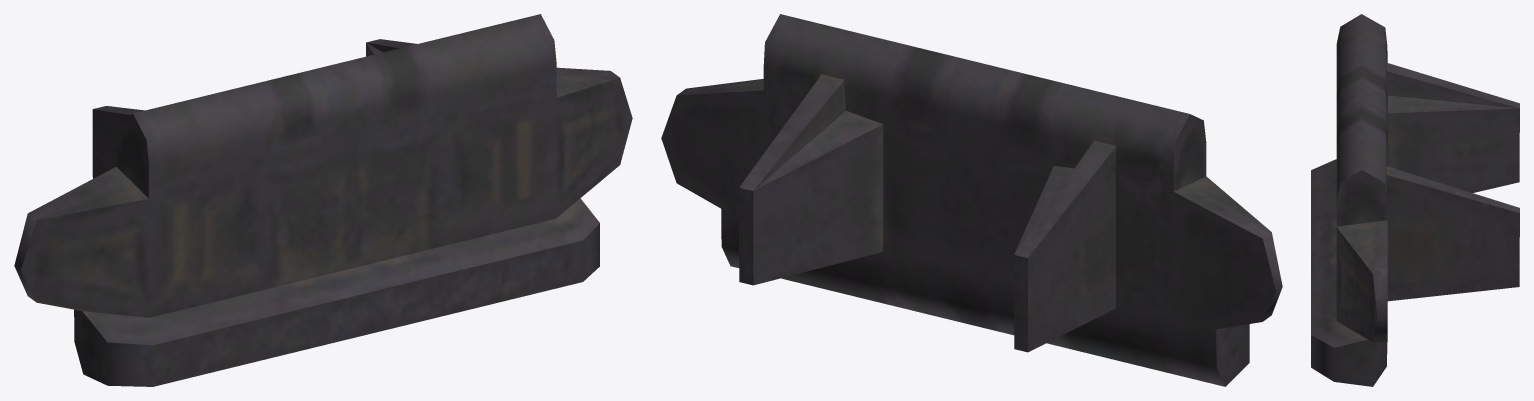
3 views of the same model, side by side, from view 1: azimuth 30°, elevation 25°; view 2: azimuth 150°, elevation 25°; view 3: azimuth 270°, elevation 25° (orthographic). The views are drawn at different scales.
Parts seen in each view (by area): view 1: set_0_group_0; view 2: set_0_group_0; view 3: set_0_group_0.
Boxes of the visible parts, <box> form: set_0_group_0: <box>14,14,632,386</box>; set_0_group_0: <box>661,14,1282,386</box>; set_0_group_0: <box>1311,14,1519,386</box>.
Bounding box in the file's own units: 0.3507 × 0.1402 × 0.1322.
Materials: 1 (1 with a texture image).
